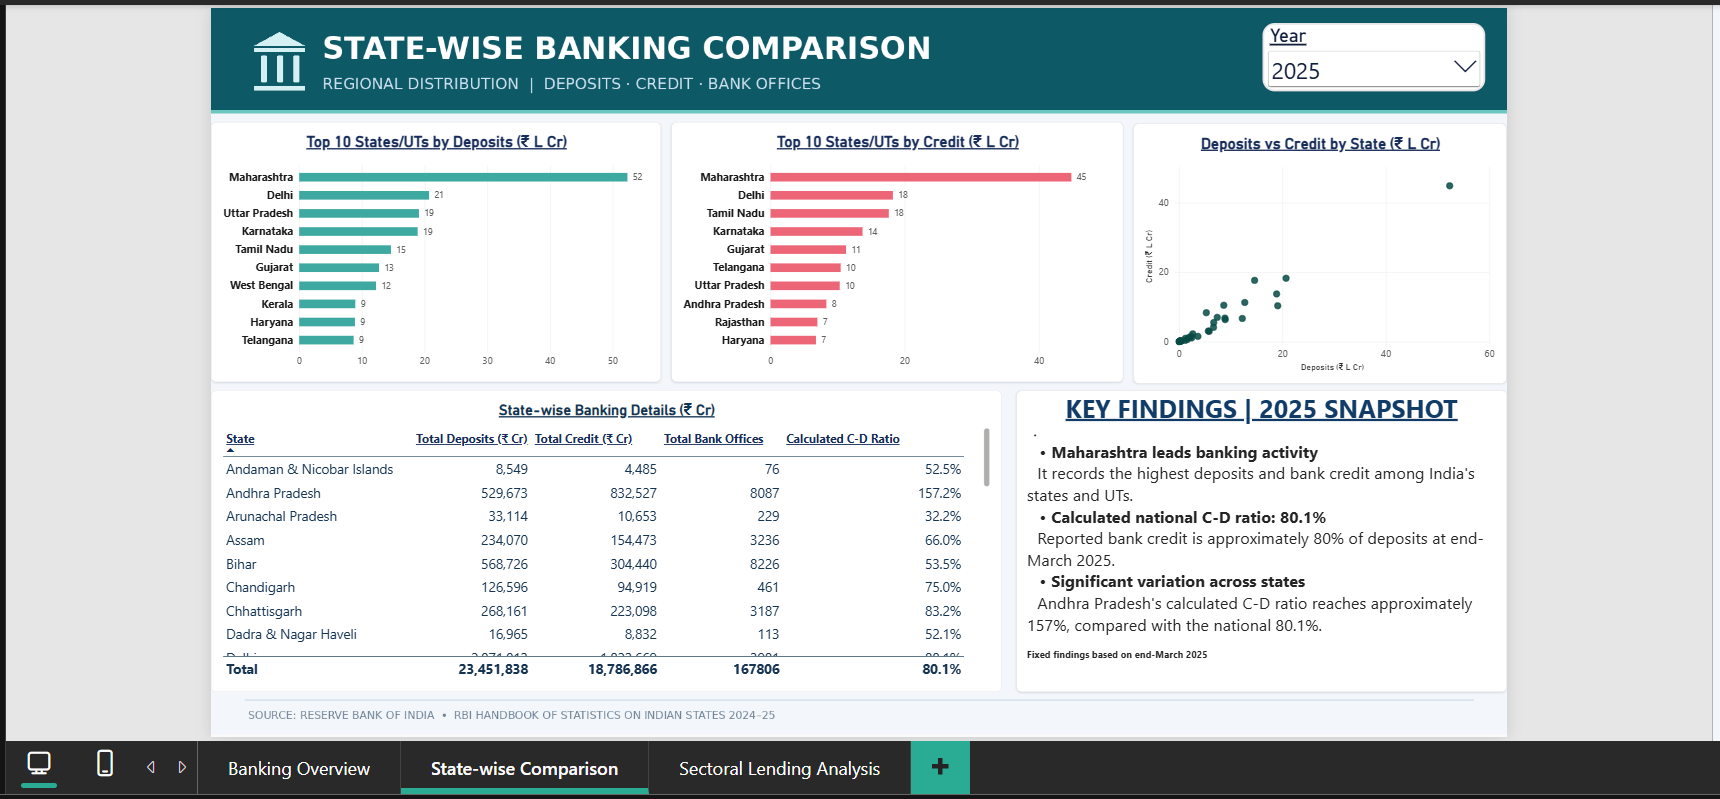

This screenshot's page, from the dashboard's own definition file:
{"tool":"powerbi","page":{"name":"State-wise Comparison","canvas":[1920,1080],"ordinal":1},"visuals":[{"type":"clusteredBarChart","title":"Top 10 States/UTs by Deposits (₹ L Cr)","fields":{"Category":["Fact_Banking.State"],"Y":["Fact_Banking.Deposits (₹ L Cr)"]},"box":[0,169.5,666.9,385.2],"z":0},{"type":"clusteredBarChart","title":"Top 10 States/UTs by Credit (₹ L Cr)","fields":{"Category":["Fact_Banking.State"],"Y":["Fact_Banking.Credit (₹ L Cr)"]},"box":[682.4,169.5,669.1,385.2],"z":1000},{"type":"scatterChart","title":"Deposits vs Credit by State (₹ L Cr)","fields":{"Category":["Fact_Banking.State"],"X":["Fact_Banking.Deposits (₹ L Cr)"],"Y":["Fact_Banking.Credit (₹ L Cr)"]},"box":[1366.9,171.7,552.5,385.2],"z":2000},{"type":"tableEx","title":"State-wise Banking Details (₹ Cr)","fields":{"Values":["Fact_Banking.State","Fact_Banking.Total Deposits (₹ Cr)","Fact_Banking.Total Credit (₹ Cr)","Fact_Banking.Total Bank Offices","Fact_Banking.Calculated C-D Ratio"]},"box":[0,565.7,1171,446.8],"z":3000},{"type":"slicer","title":"Year","fields":{"Values":["Fact_Banking.Year"]},"box":[1558.4,22,330.2,101.3],"z":4000},{"type":"shape","box":[1193,565.7,726.4,446.8],"z":5000},{"type":"textbox","box":[1193,565.7,726.4,59.4],"z":6000},{"type":"textbox","box":[1208.3,624.6,695,388.4],"z":7000}]}

Visuals, with their boxes on the page's 1920x1080 design canvas (x1, y1, x2, y2). These are canvas units, not pixel positions in the 1720x799 screenshot, which may show the page scaled, cropped or inside an application window:
"Top 10 States/UTs by Deposits (₹ L Cr)" clusteredBarChart: box=[0, 170, 667, 555]
"Top 10 States/UTs by Credit (₹ L Cr)" clusteredBarChart: box=[682, 170, 1352, 555]
"Deposits vs Credit by State (₹ L Cr)" scatterChart: box=[1367, 172, 1919, 557]
"State-wise Banking Details (₹ Cr)" tableEx: box=[0, 566, 1171, 1012]
"Year" slicer: box=[1558, 22, 1889, 123]
shape: box=[1193, 566, 1919, 1012]
textbox: box=[1193, 566, 1919, 625]
textbox: box=[1208, 625, 1903, 1013]
